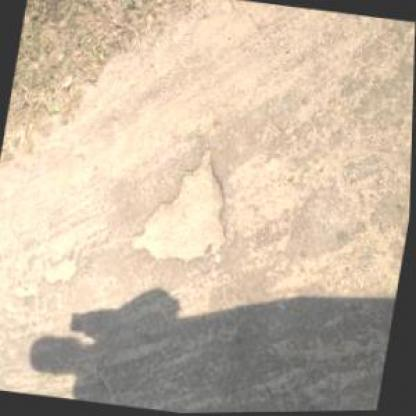pothole: (125, 136, 244, 274), (43, 247, 80, 288)
